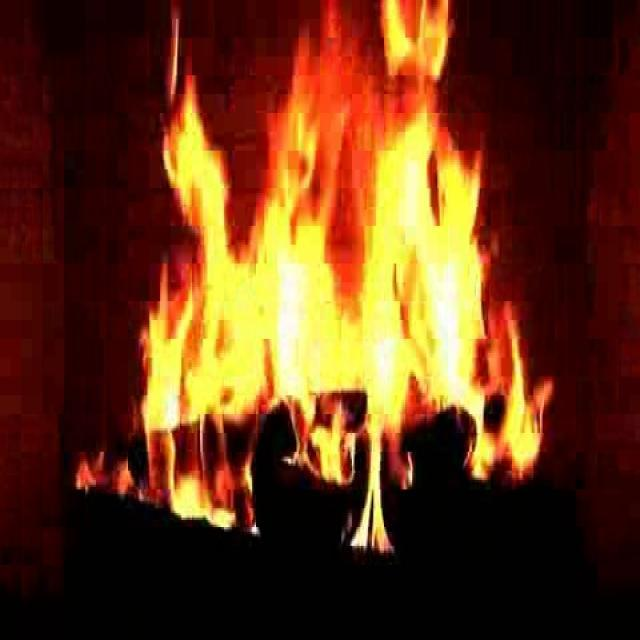Fire: (136, 26, 534, 529)
